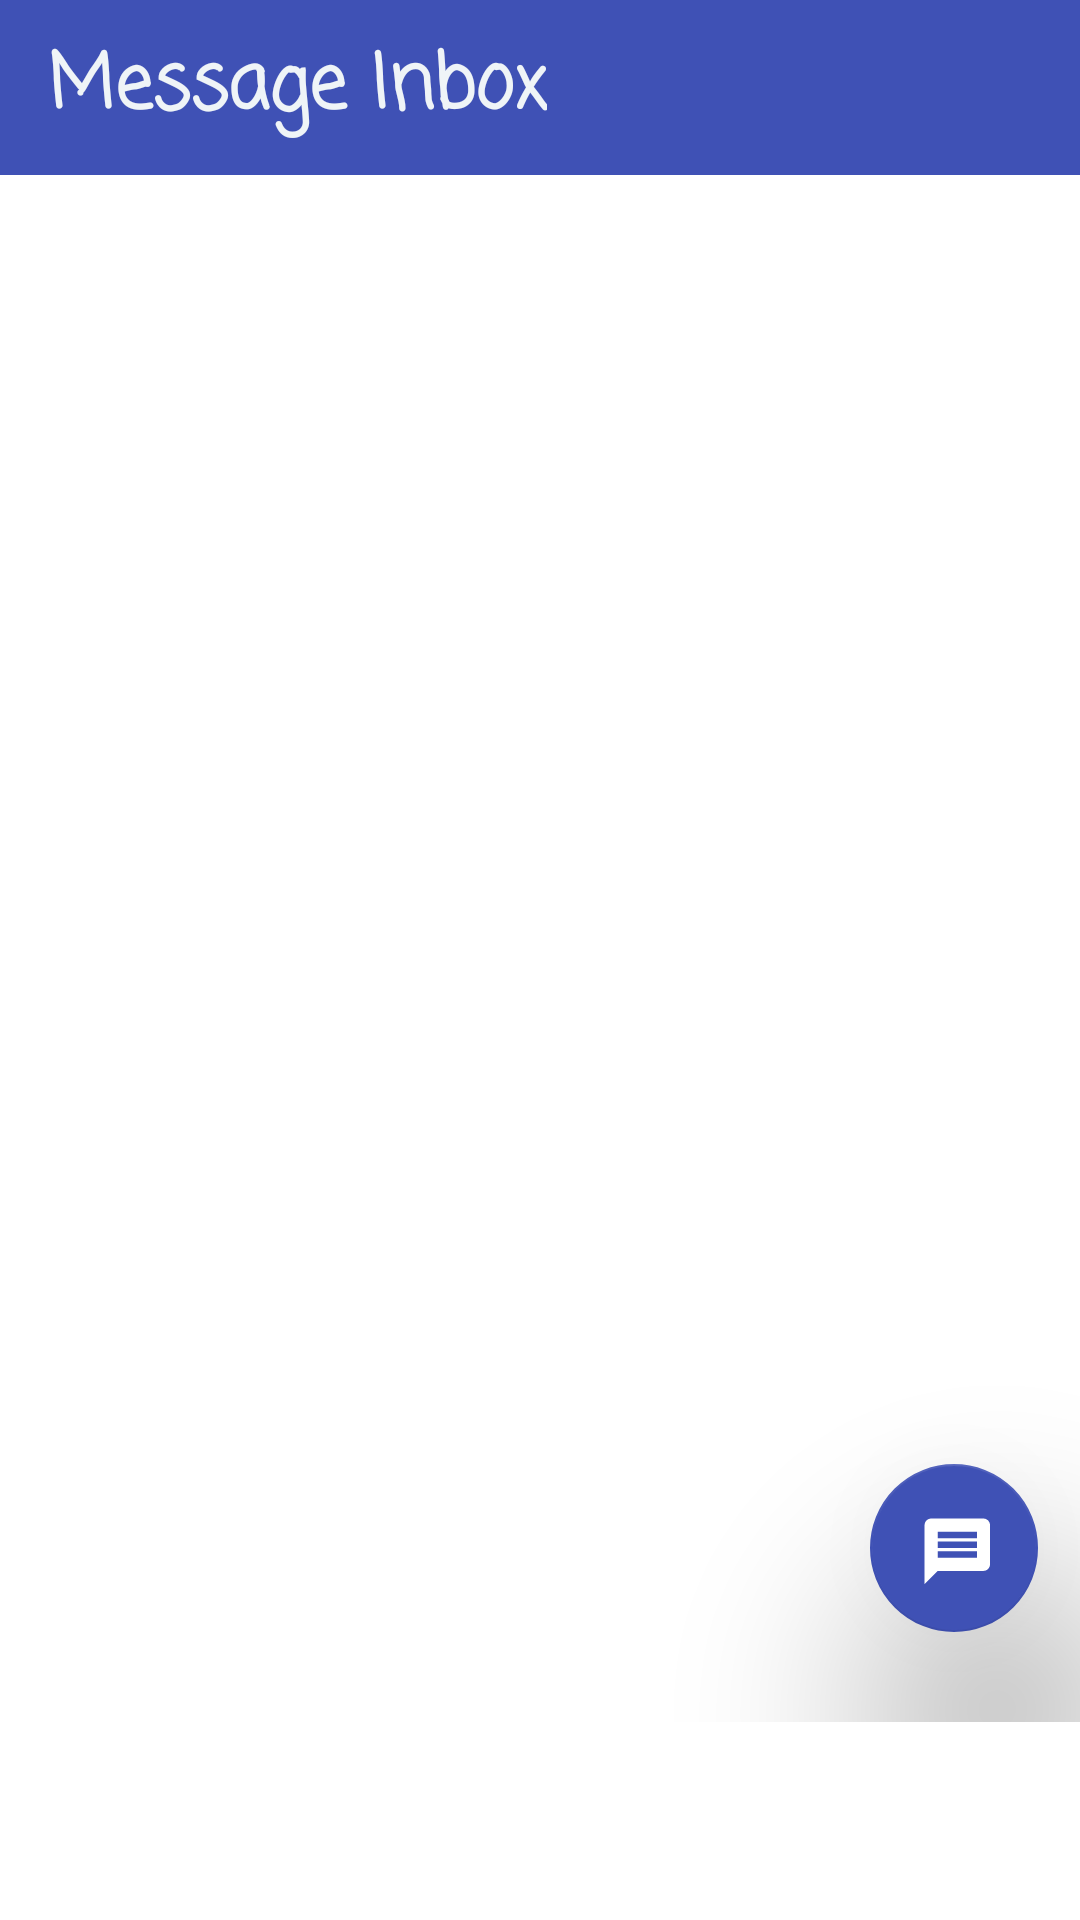

Named icons in this screenshot (1080px x 1920px) and their centers, (x=x, y=y):
message: (x=954, y=1548)
